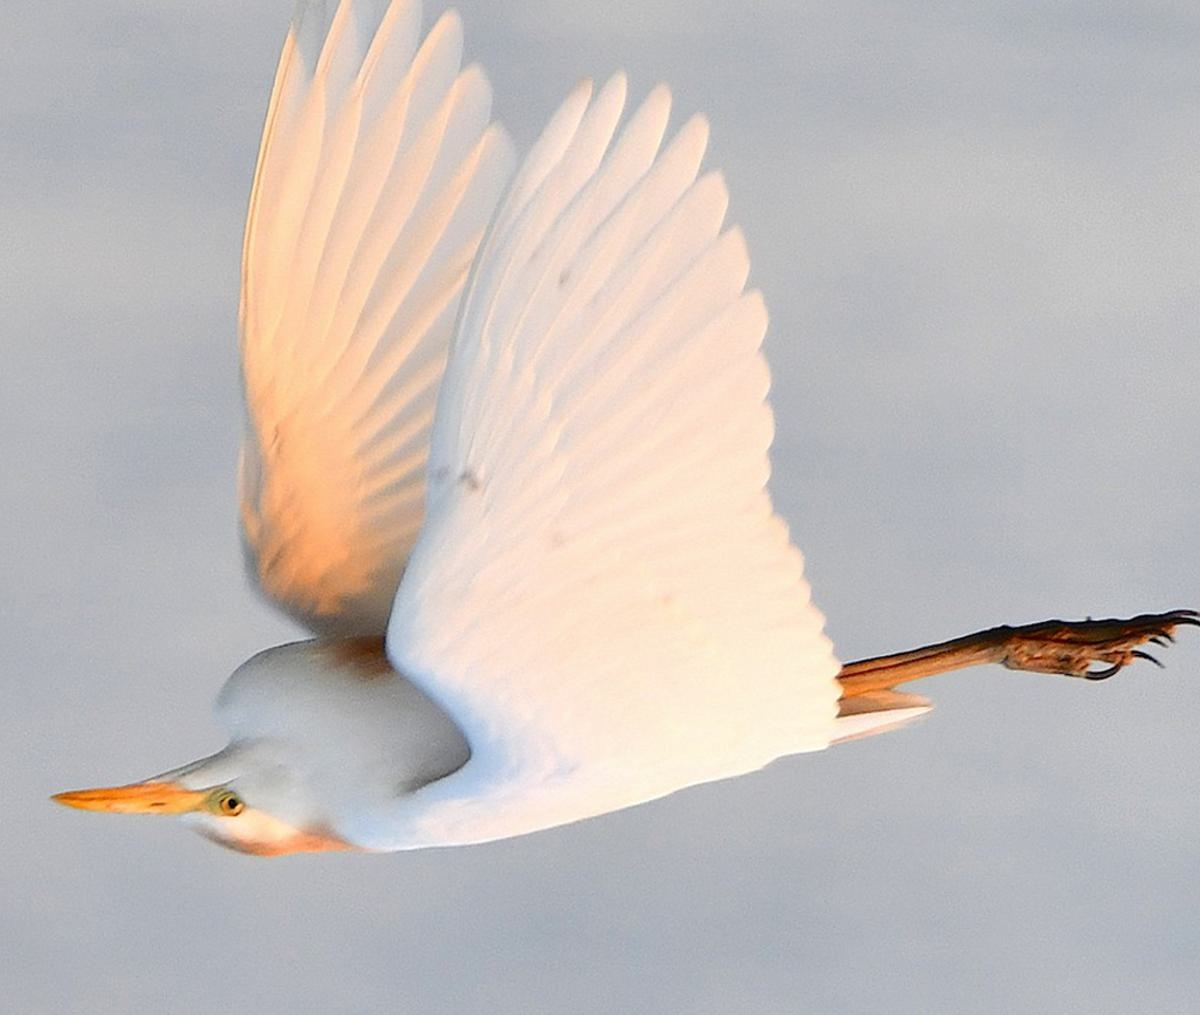egret: (41, 75, 1200, 881)
